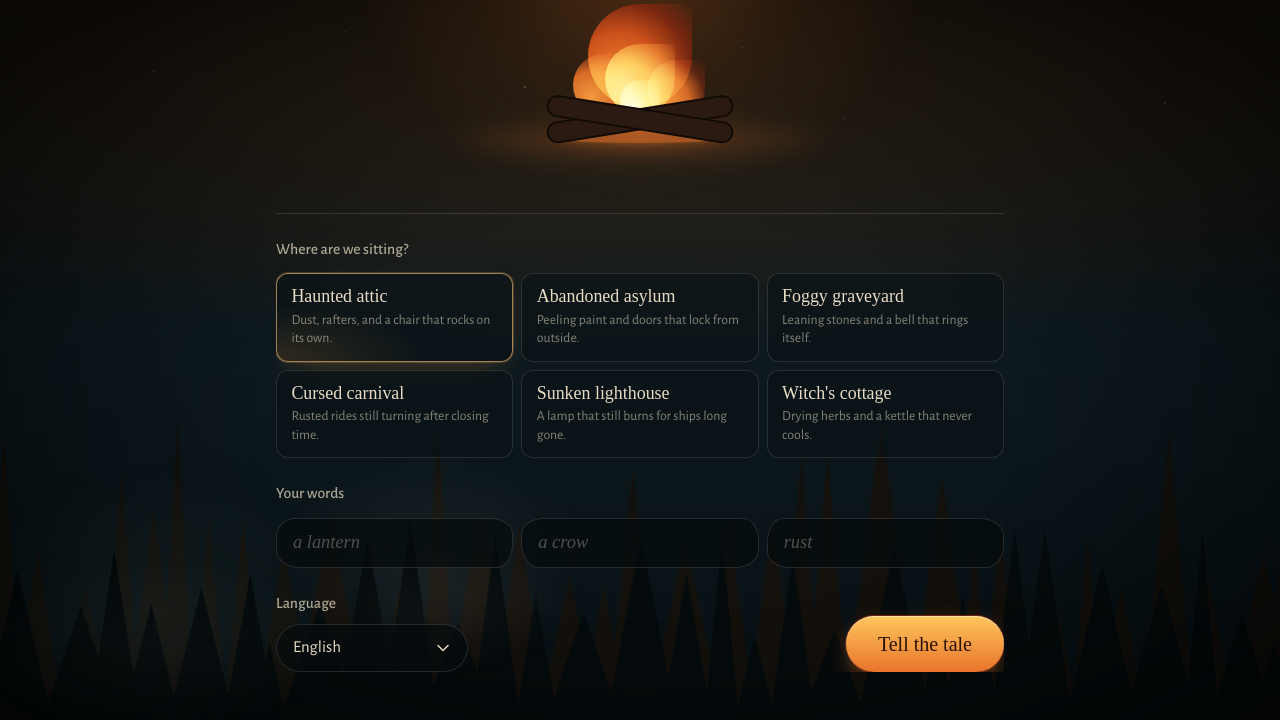
Test: App: problems are shown in the scene, never as a blank page › no words → a hint, no request
The image size is (1280, 720).
(page scrolled)
Click the button "Tell the tale".
click(925, 644)  # box [846,616,1004,672]
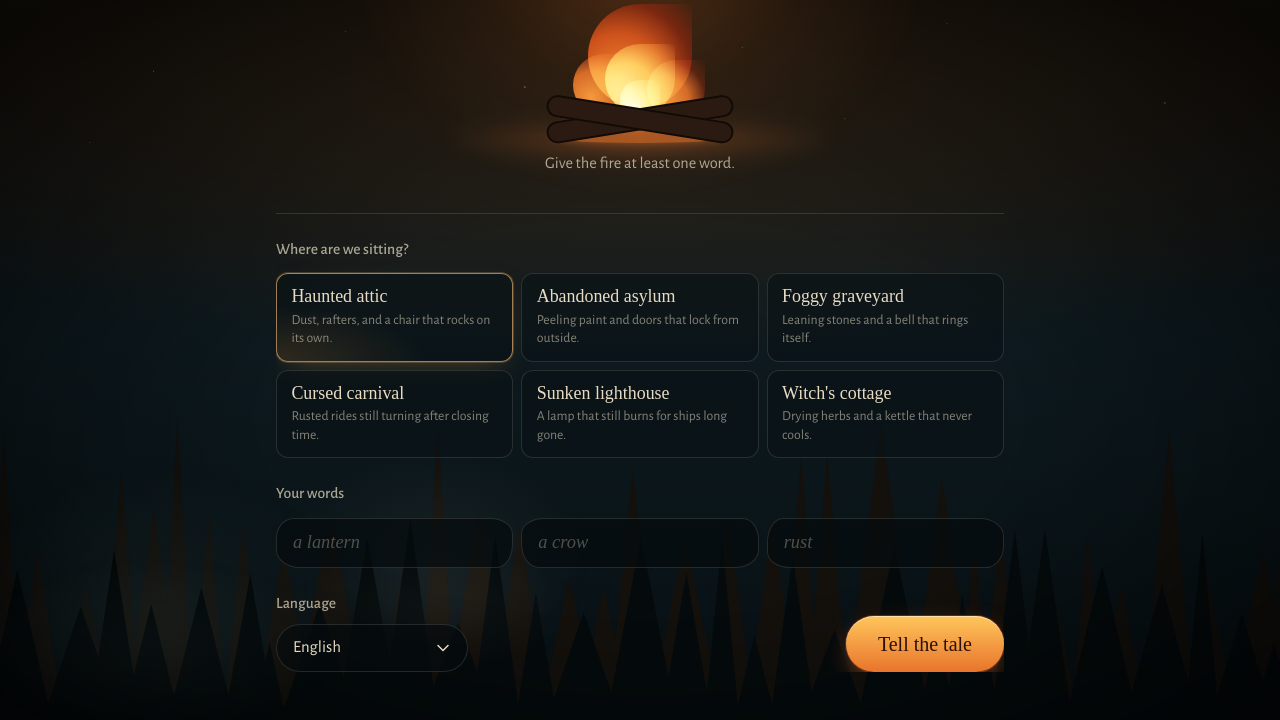
Result: the text "Give the fire at least one word." is shown at [545,152,735,175]
